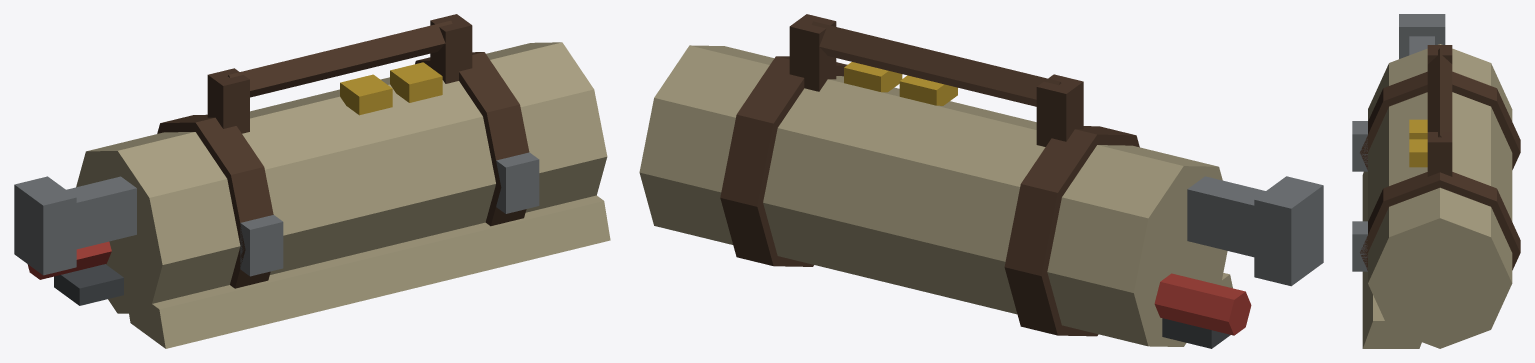
The model's file is item_weapon_kit_mk2.glb.
3 views of the same model, side by side, from view 1: azimuth 30°, elevation 25°; view 2: azimuth 150°, elevation 25°; view 3: azimuth 270°, elevation 25° (orthographic). The views are drawn at different scales.
Visible parts, largest first — view 1: weapon_kit; view 2: weapon_kit; view 3: weapon_kit.
Boxes of the visible parts, x1,y1,x2,y2 form: weapon_kit: (14,14,610,348); weapon_kit: (639,14,1323,348); weapon_kit: (1352,14,1520,348).
Size of the model in its own units: 0.49 by 0.19 by 0.163.
